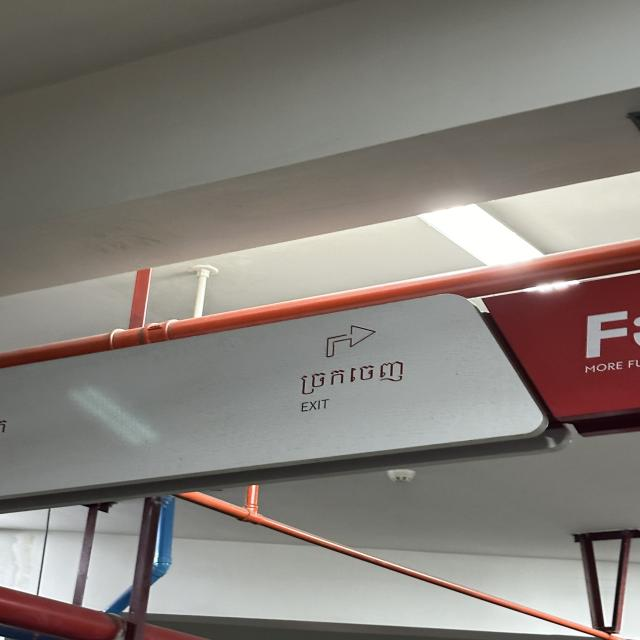Yolov11_80vkh: (290, 354, 410, 398)
